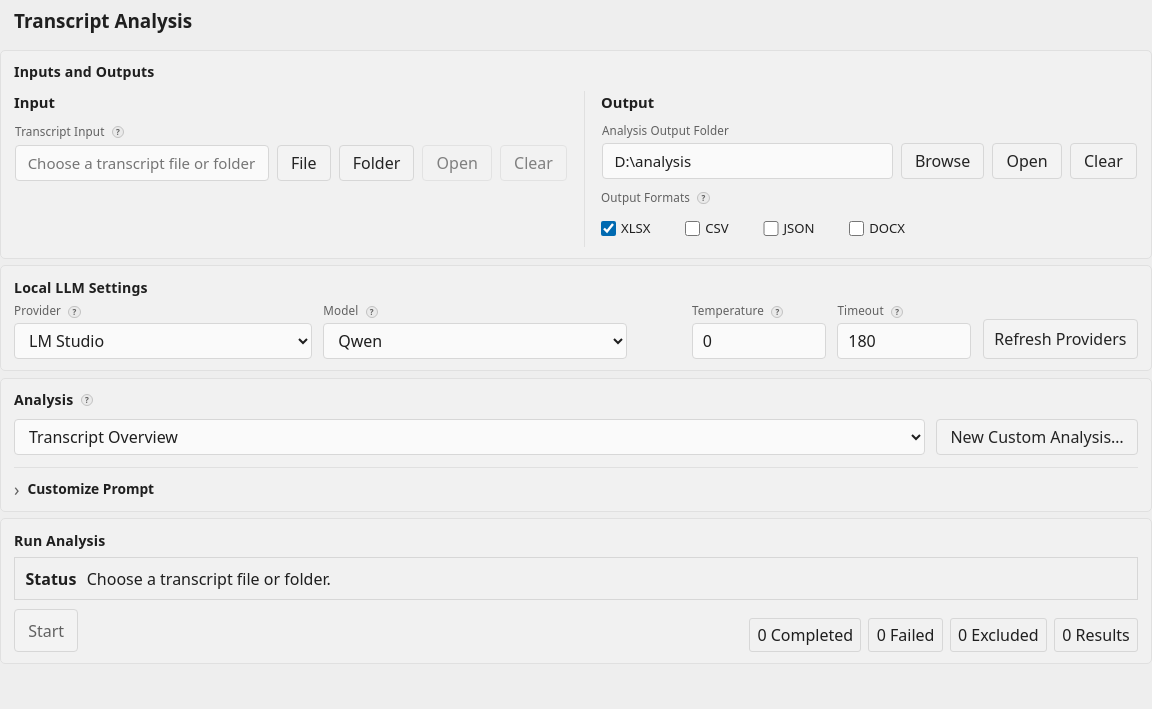
Test case: Transcript Analysis page › locks the complete configuration immediately while the start request is pending
The width and height of the screenshot is (1152, 709).
Click the button "File": x=304, y=163 [277,145,331,181]
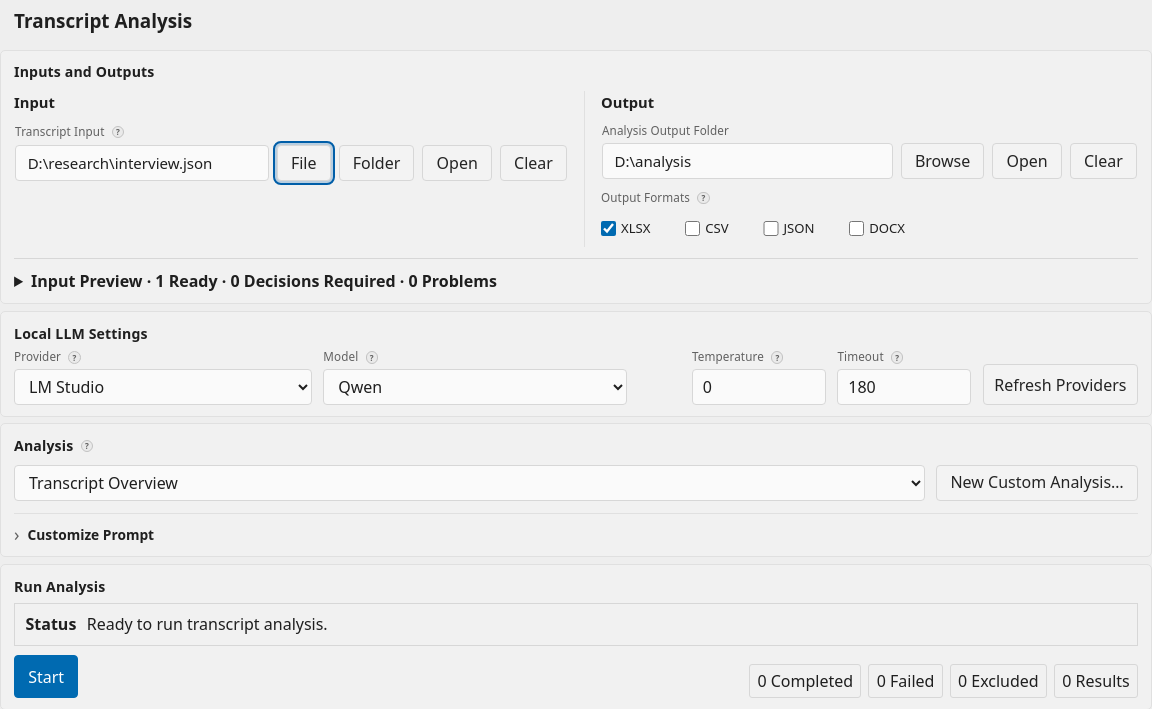
Expected: the button "Start" is enabled
Click the button "Start": x=46, y=677 [14,655,78,698]
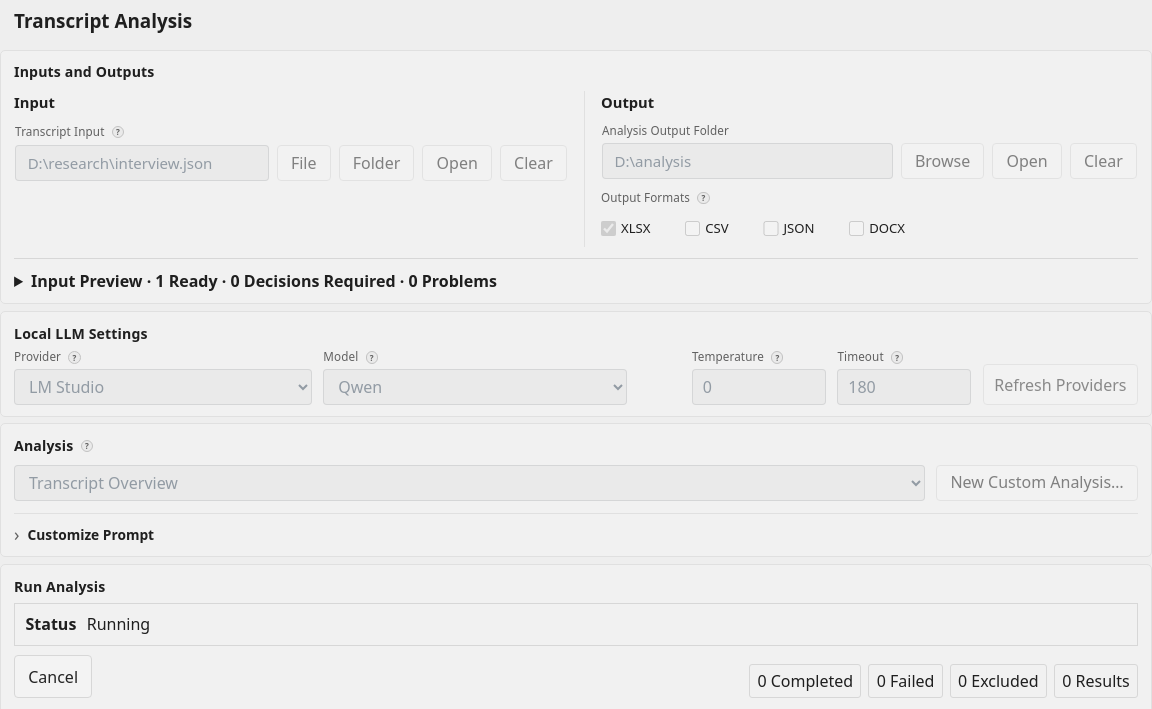
Expected: the button "File" is disabled, [277,145,331,181]
Expected: the button "Folder" is disabled, [339,145,414,181]
Expected: the button "Refresh Providers" is disabled, [983,364,1138,405]
